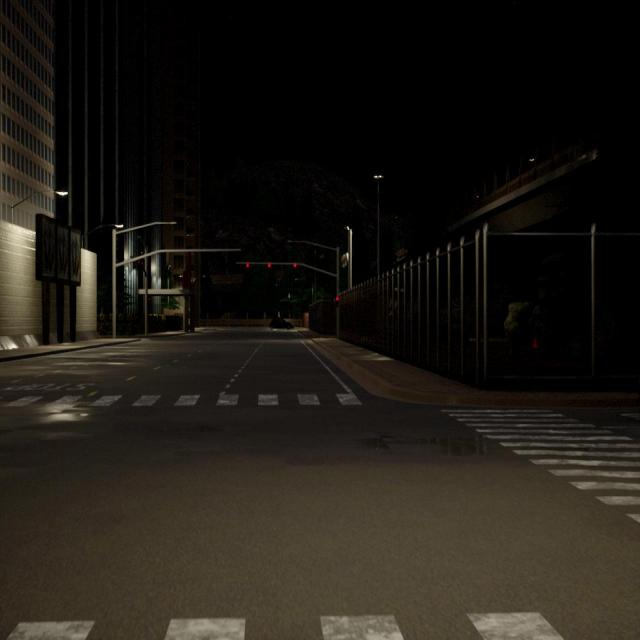Vehicle: (269, 316, 293, 329)
traffic_light: (335, 296, 339, 306), (267, 262, 271, 268), (134, 261, 136, 269), (246, 263, 249, 268), (294, 263, 296, 268)
